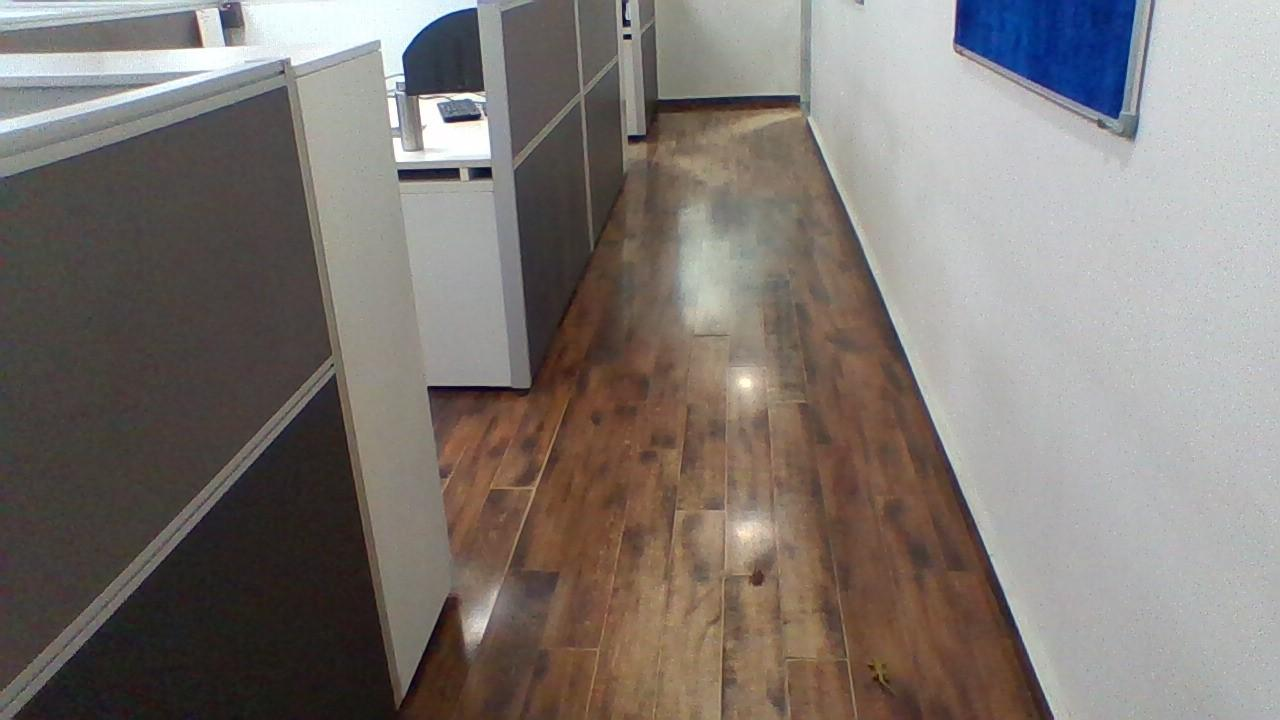cockroach: (735, 556, 778, 604)
lizard: (867, 643, 906, 709)
